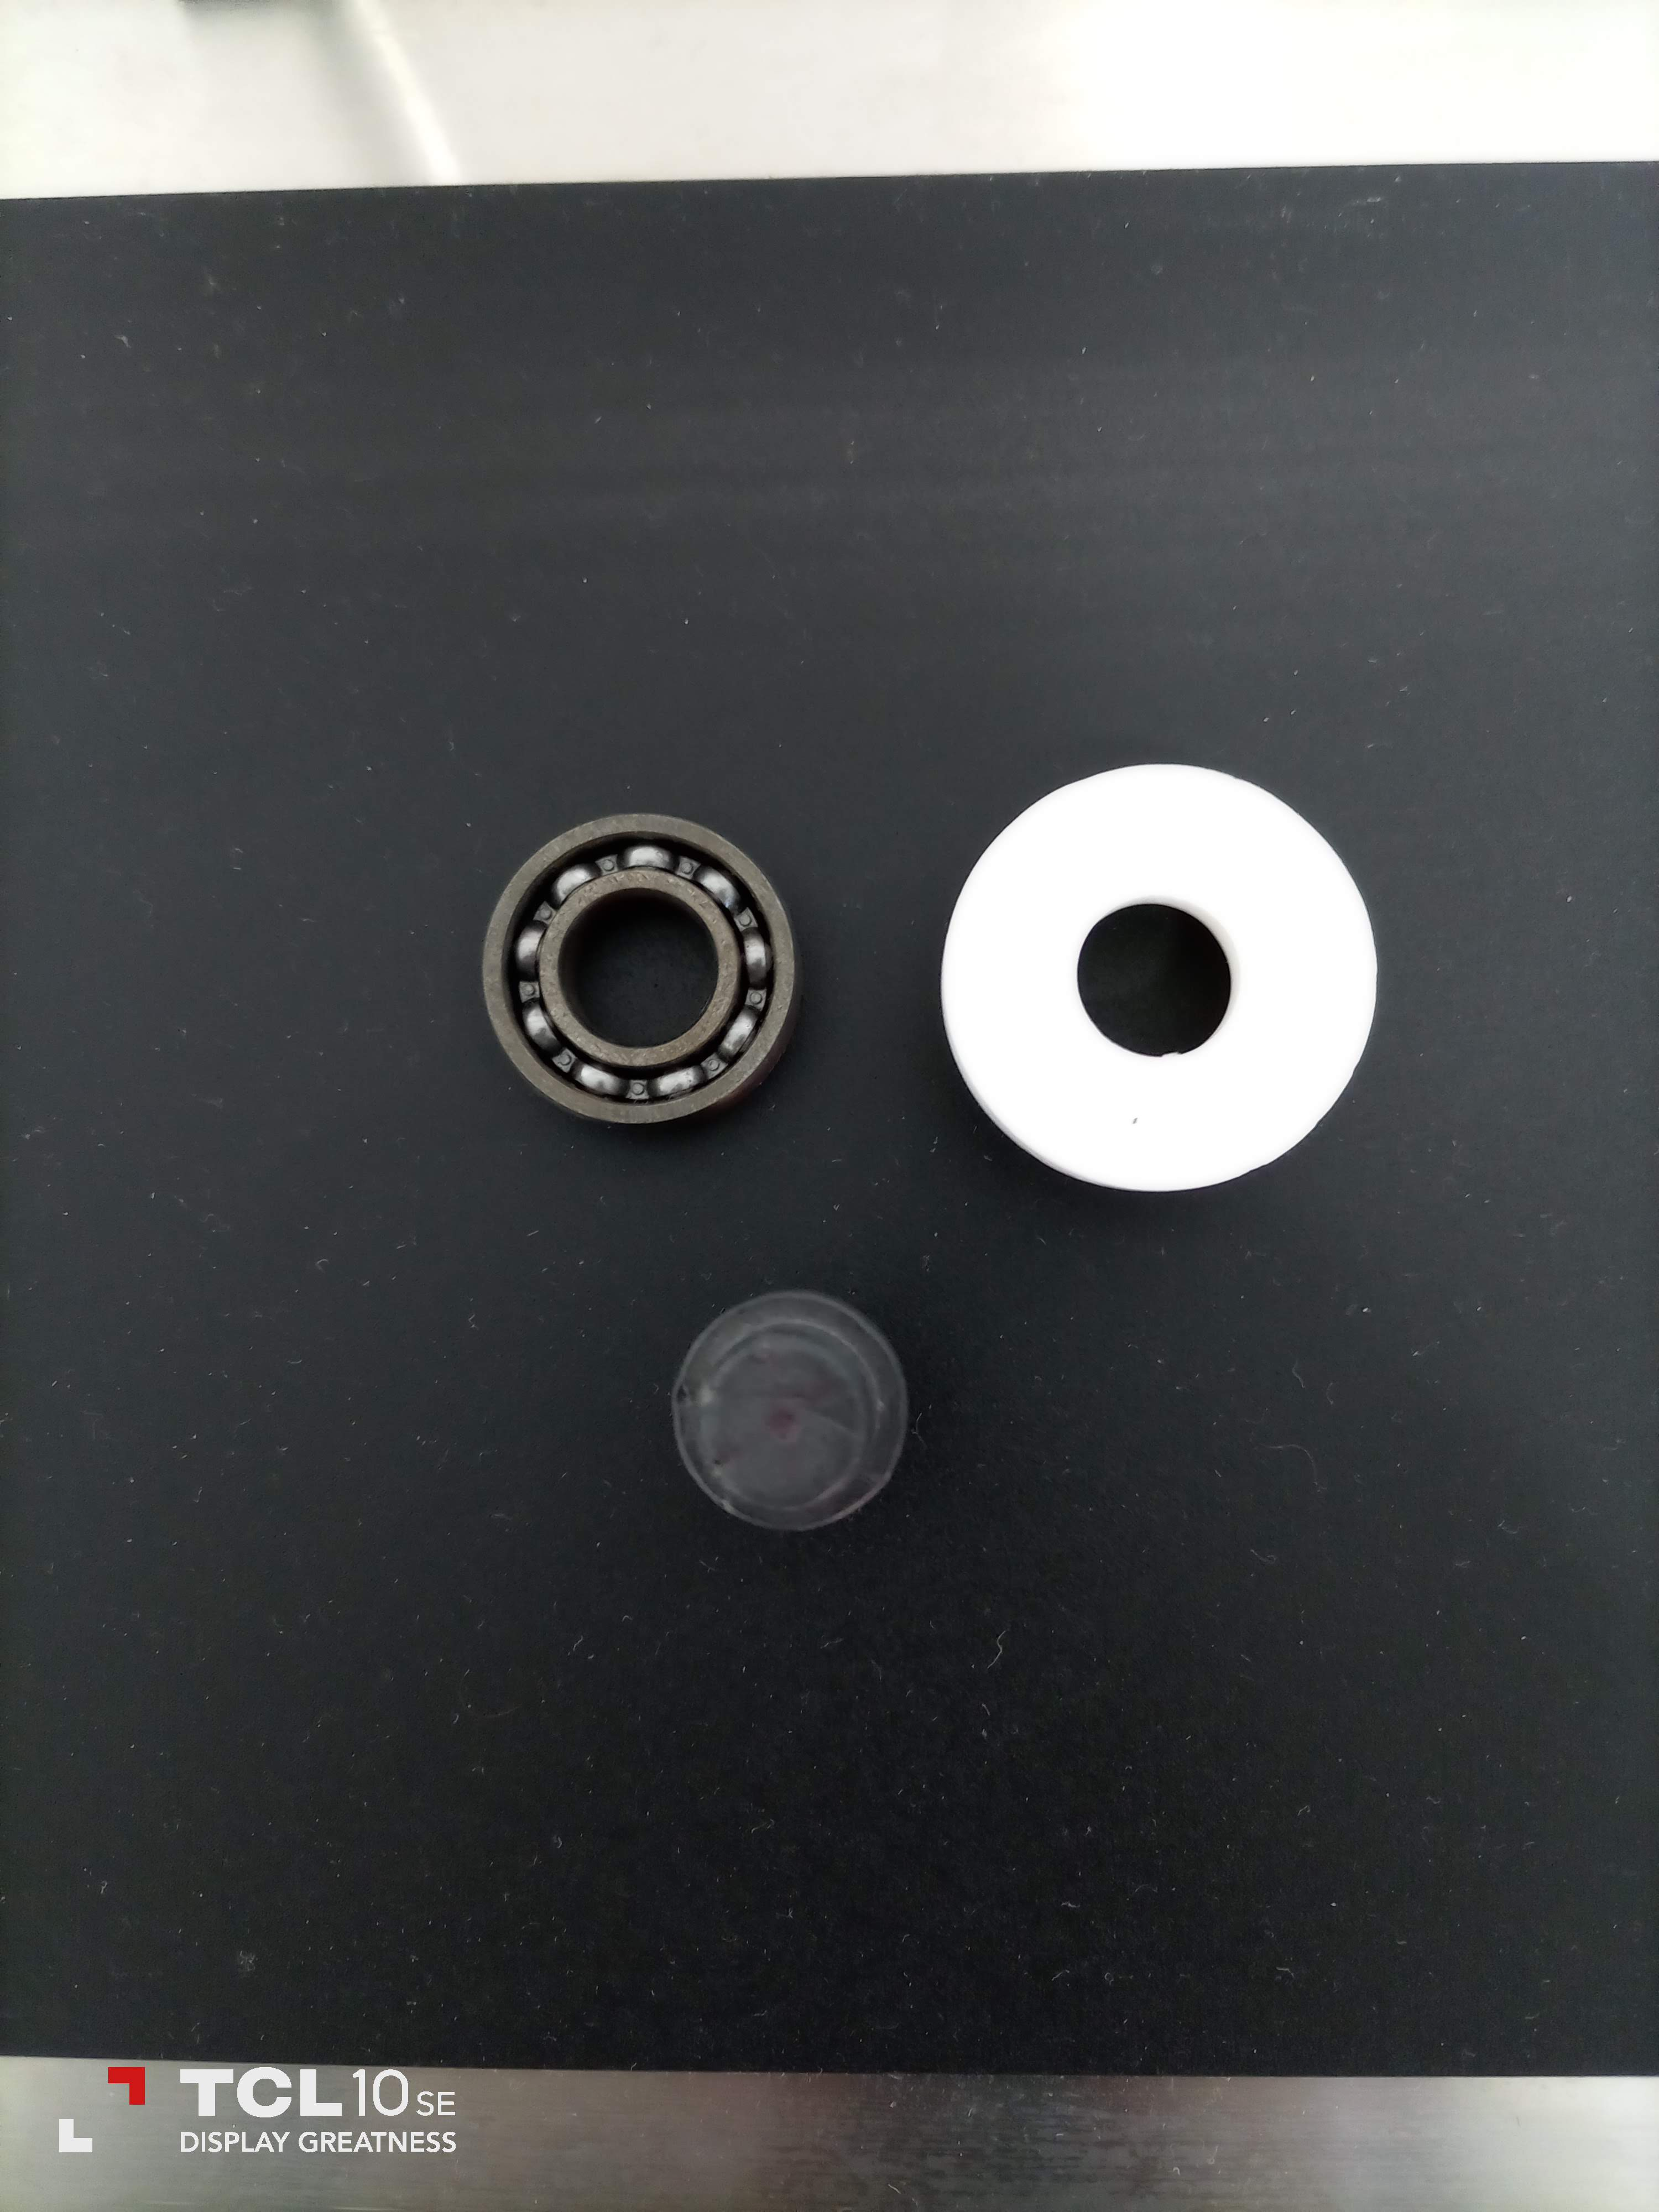Ardatza: (652, 1275, 936, 1541)
Roda: (486, 796, 810, 1123)
Tapa: (929, 733, 1408, 1209)
